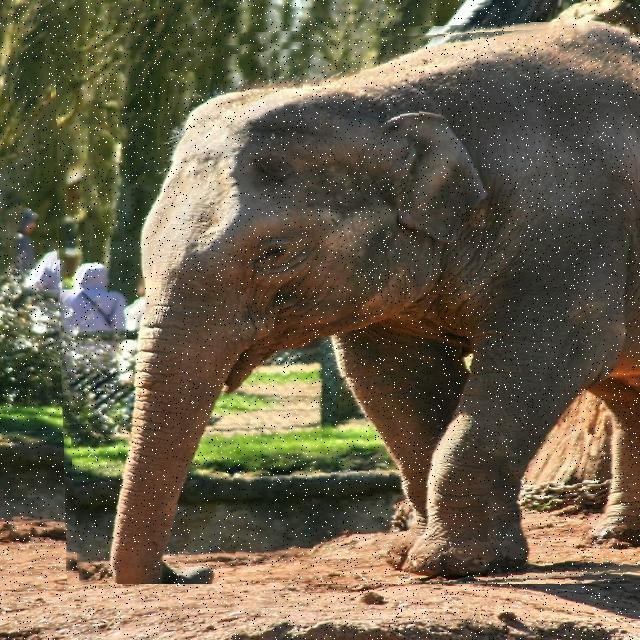elephant: (55, 24, 640, 584)
